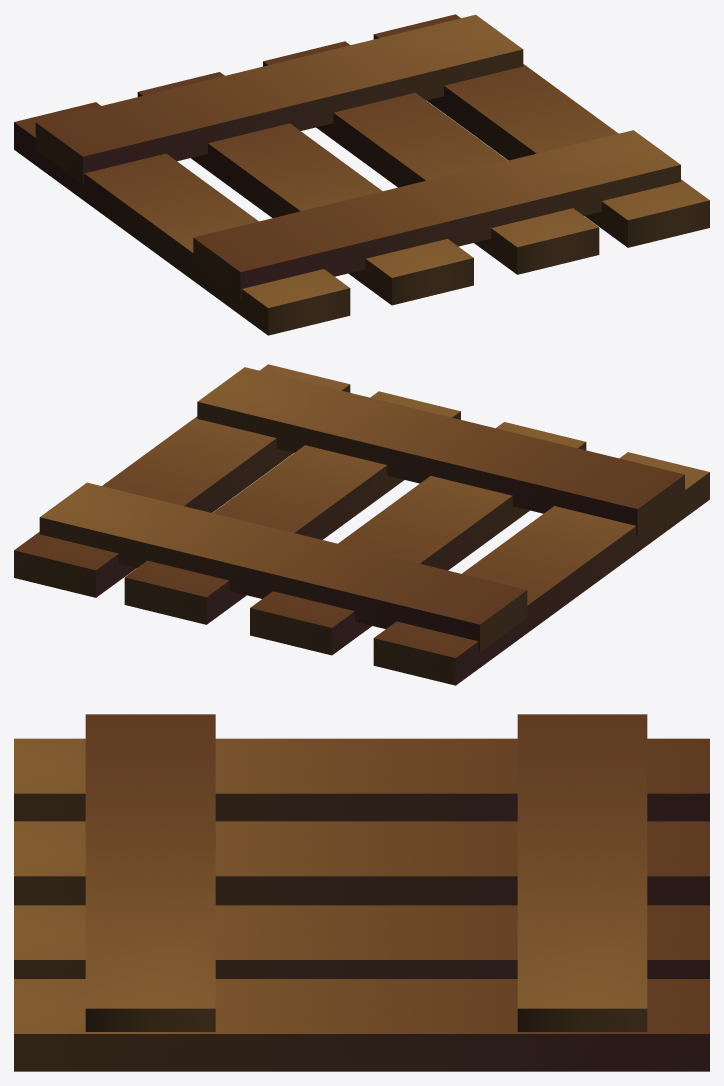
File: sm_bridgePiece.fbx
3 renders of one model, top to bottom at view 1: azimuth 30°, elevation 25°; view 2: azimuth 150°, elevation 25°; view 3: azimuth 270°, elevation 25°, orthographic. The views are drawn at different scales.
Parts seen in each view (by area): view 1: polySurface6; view 2: polySurface6; view 3: polySurface6.
Part boxes in pixels (box(x1,y1,x2,y2)): polySurface6: box(14, 14, 709, 335); polySurface6: box(14, 364, 709, 685); polySurface6: box(14, 714, 709, 1071).
Bounding box in the file's own units: 0.969 × 0.0932 × 0.9628.
Materials: 1 (1 with a texture image).
